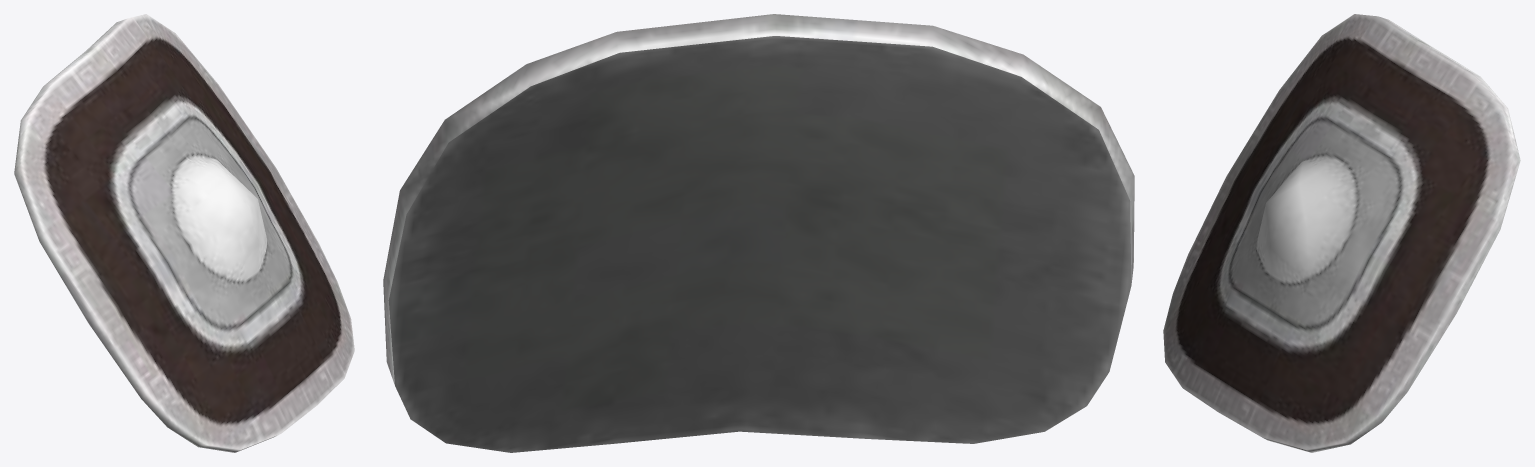
File: shield-bronzeshields.glb
The picture shows the model from 3 angles, left to right: view 1: azimuth 30°, elevation 25°; view 2: azimuth 150°, elevation 25°; view 3: azimuth 270°, elevation 25°; orthographic projection. The views are drawn at different scales.
Size of the model in its own units: 0.4204 by 0.3756 by 0.3779.
1 material, 1 textured.
